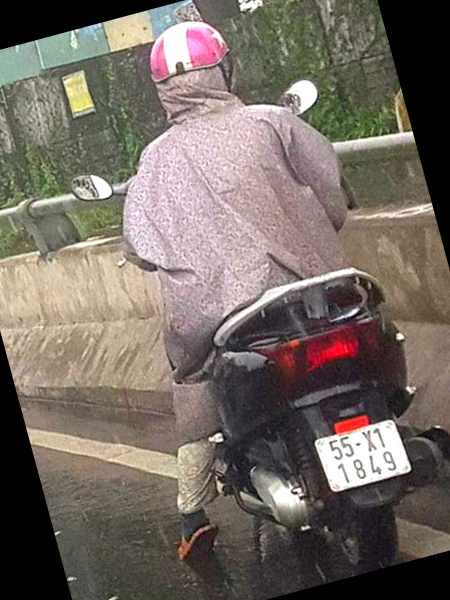number: (314, 419, 412, 493)
